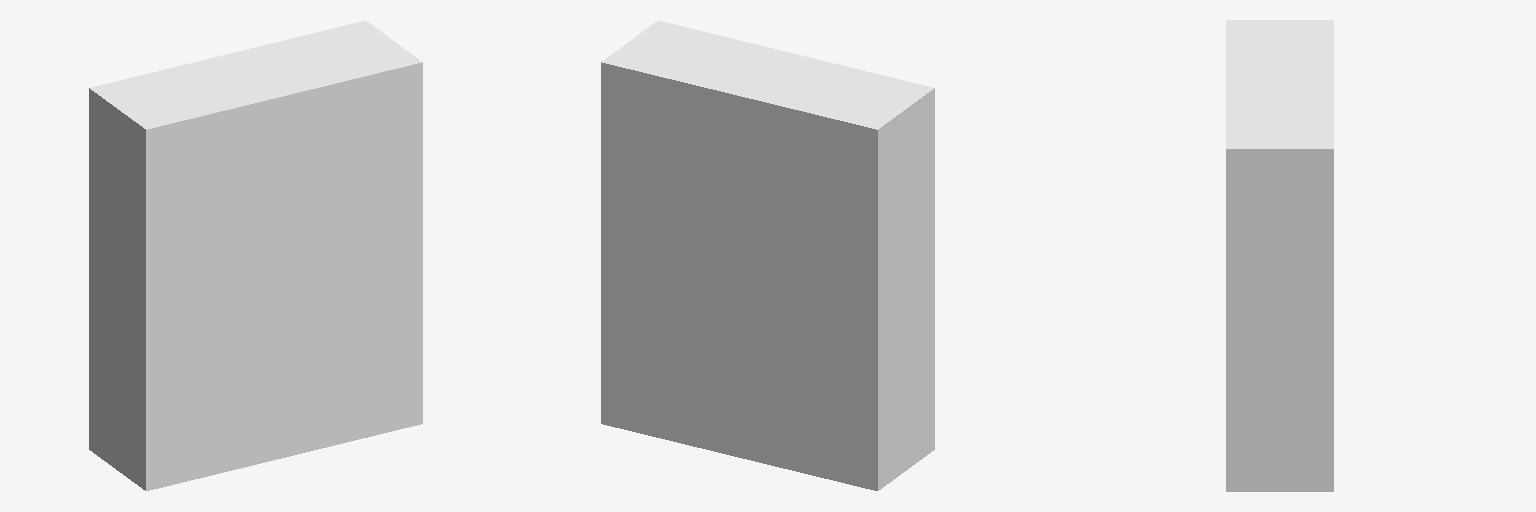
robot.urdf — box.urdf:
<?xml version="1.0" ?>
<robot name="box.urdf">
  <link name="baseLink">
    <contact>
      <lateral_friction value="1.0"/>
      <spinning_friction value="0.001"/>
      <rolling_friction value="0.001"/>
      <contact_cfm value="0.0"/>
      <contact_erp value="1.0"/>
    </contact>
    <inertial>
      <origin rpy="0 0 0" xyz="0.0 0 0.0"/>
       <mass value=".001"/>
       <inertia ixx="1" ixy="0" ixz="0" iyy="1" iyz="0" izz="1"/>
    </inertial>
    <visual>
      <origin rpy="0 0 0" xyz="0 0 0"/>
      <geometry>
        <box size="0.193 0.069 0.241"/>
      </geometry>
       <material name="white">
        <color rgba="1 1 1 1"/>
      </material>
    </visual>
    <collision>
      <origin rpy="0 0 0" xyz="0 0 0"/>
      <geometry>
	<box size="0.193 0.069 0.241"/>
      </geometry>
    </collision>
  </link>
</robot>

--- Facts derived from the render (not from the file) ---
The picture shows the robot from 3 angles, left to right: view 1: azimuth 30°, elevation 25°; view 2: azimuth 150°, elevation 25°; view 3: azimuth 270°, elevation 25°; orthographic projection.
Robot: box.urdf — 1 links, 0 joints (none); root link baseLink; default pose: all joints at 0.
Visible links, largest first — view 1: baseLink; view 2: baseLink; view 3: baseLink.
Link boxes in pixels (x1,y1,x2,y2): baseLink: (89,21,422,490); baseLink: (601,21,934,490); baseLink: (1226,20,1333,491).
Size in the robot's own frame: 0.193 by 0.069 by 0.241 metres.
Geometry: primitives only (box / cylinder / sphere), no mesh files.